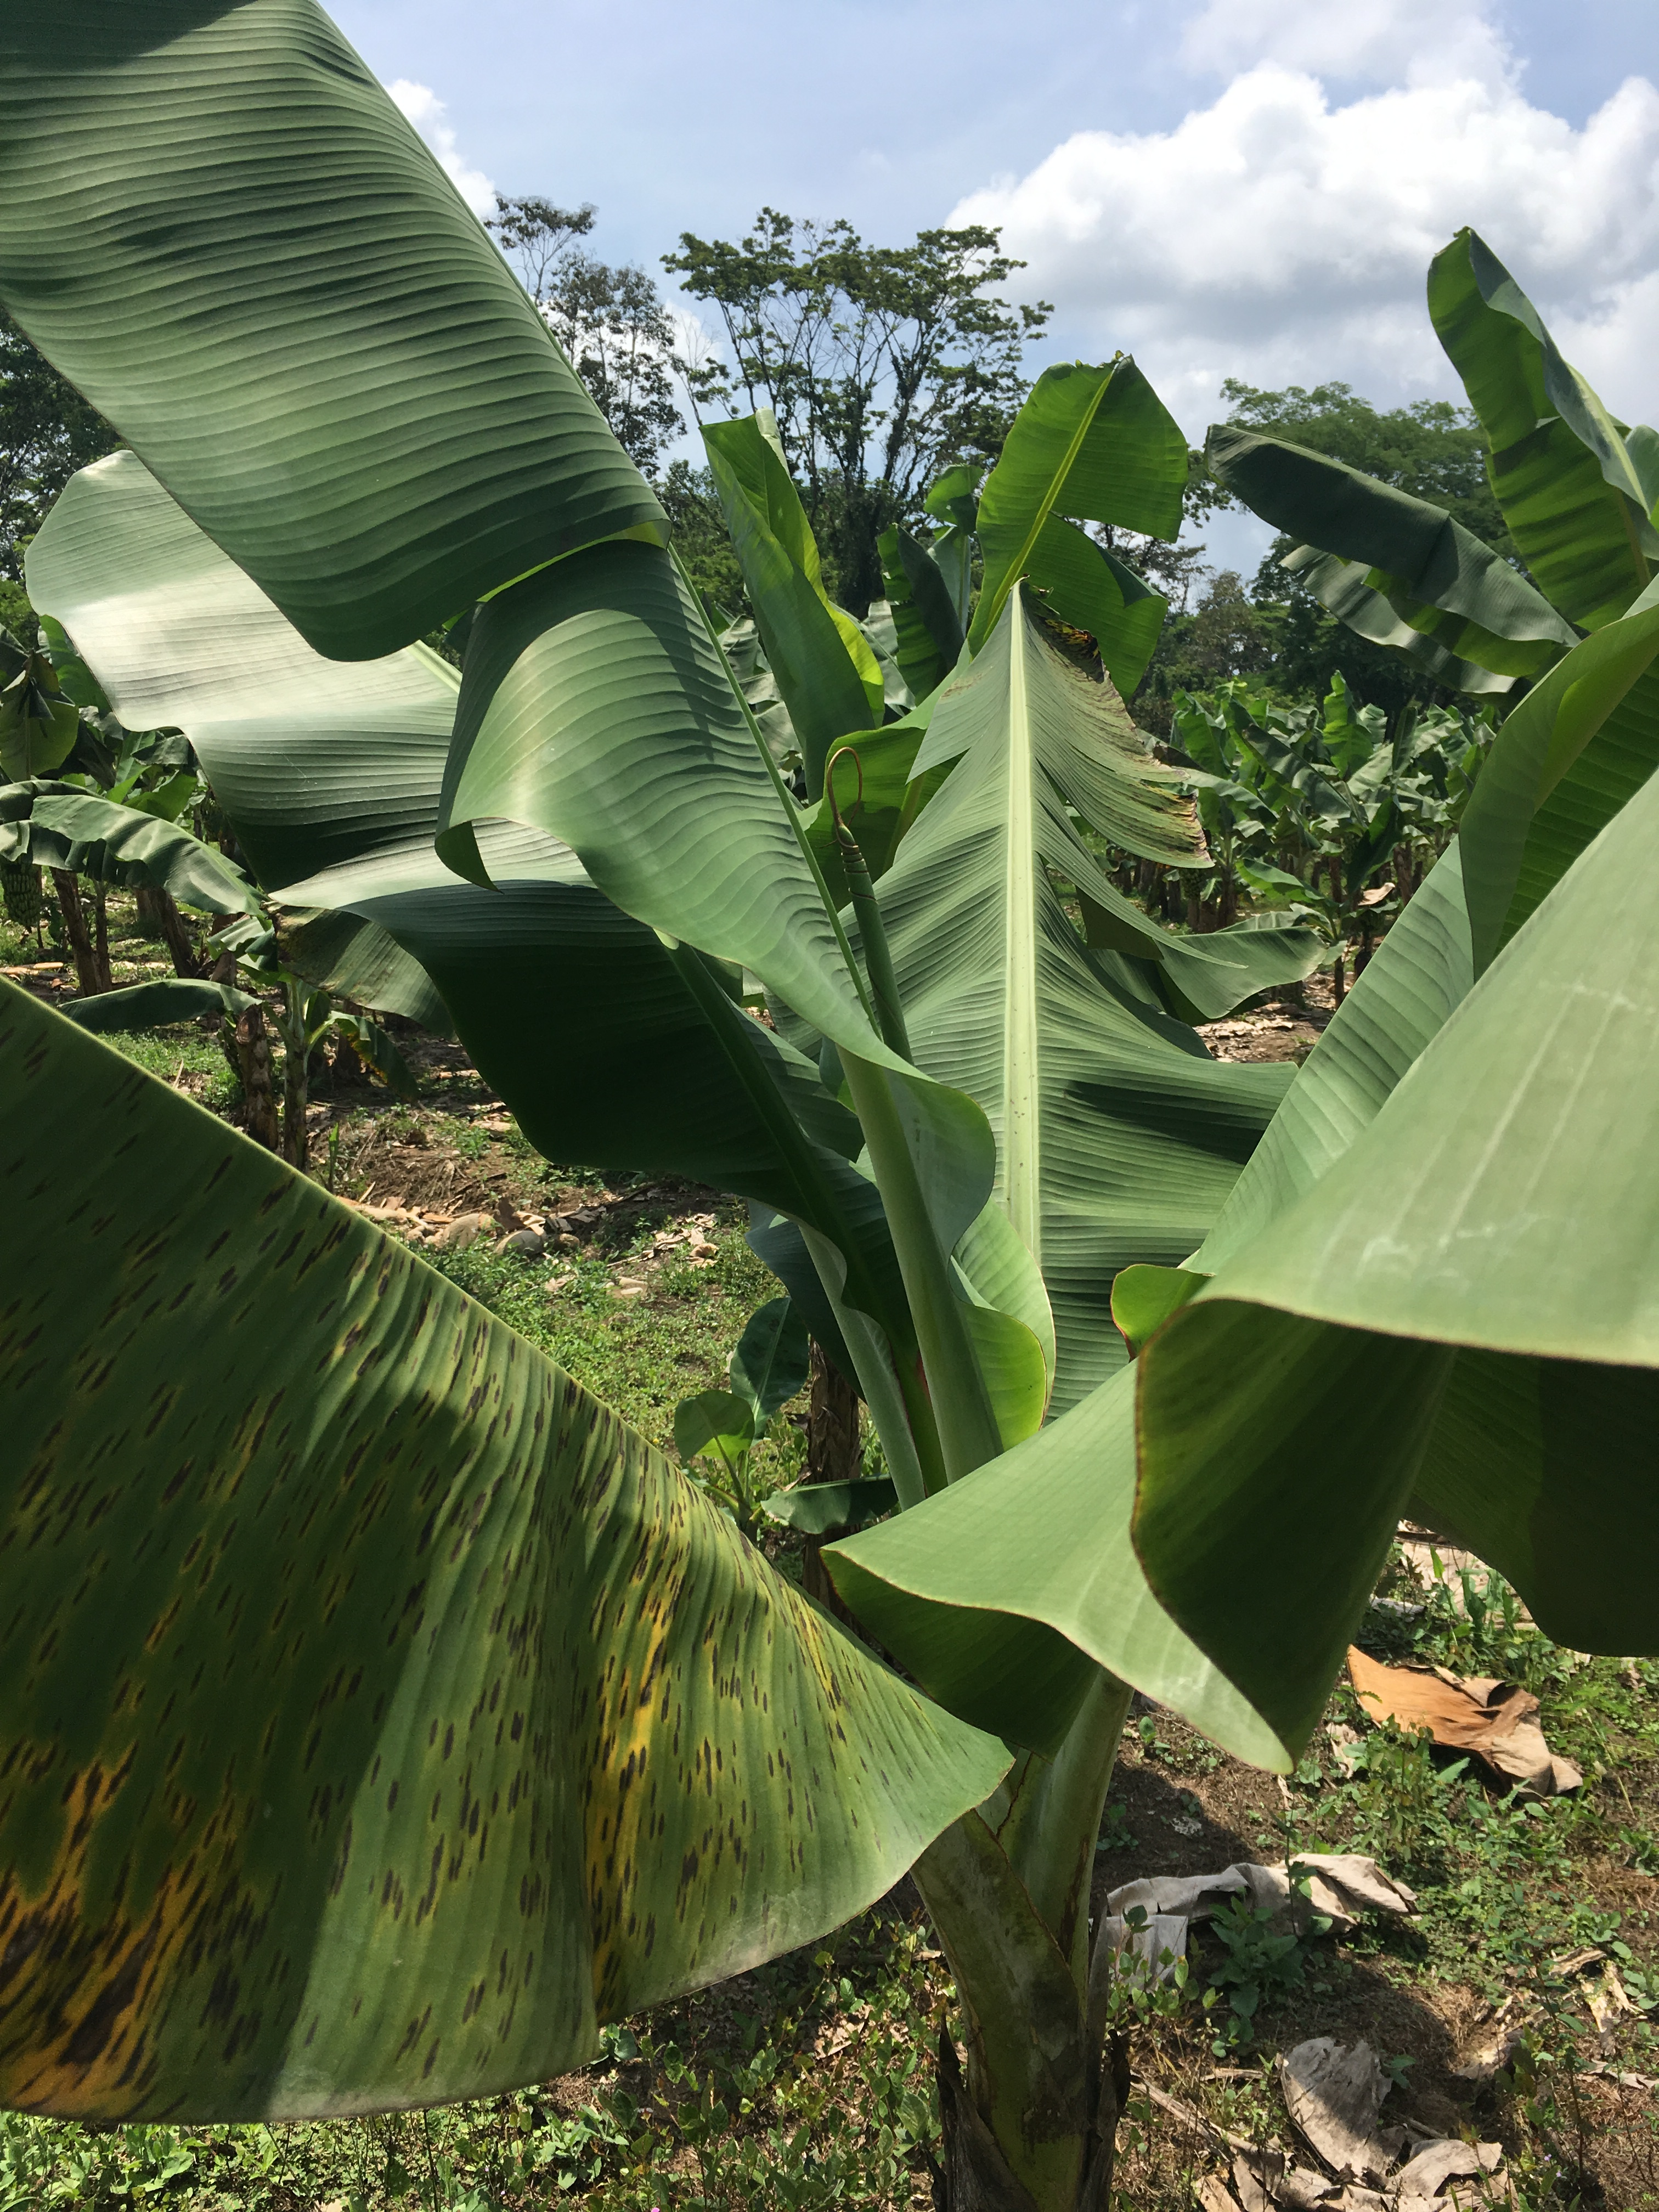candleleafs: (821, 747, 925, 1061)
